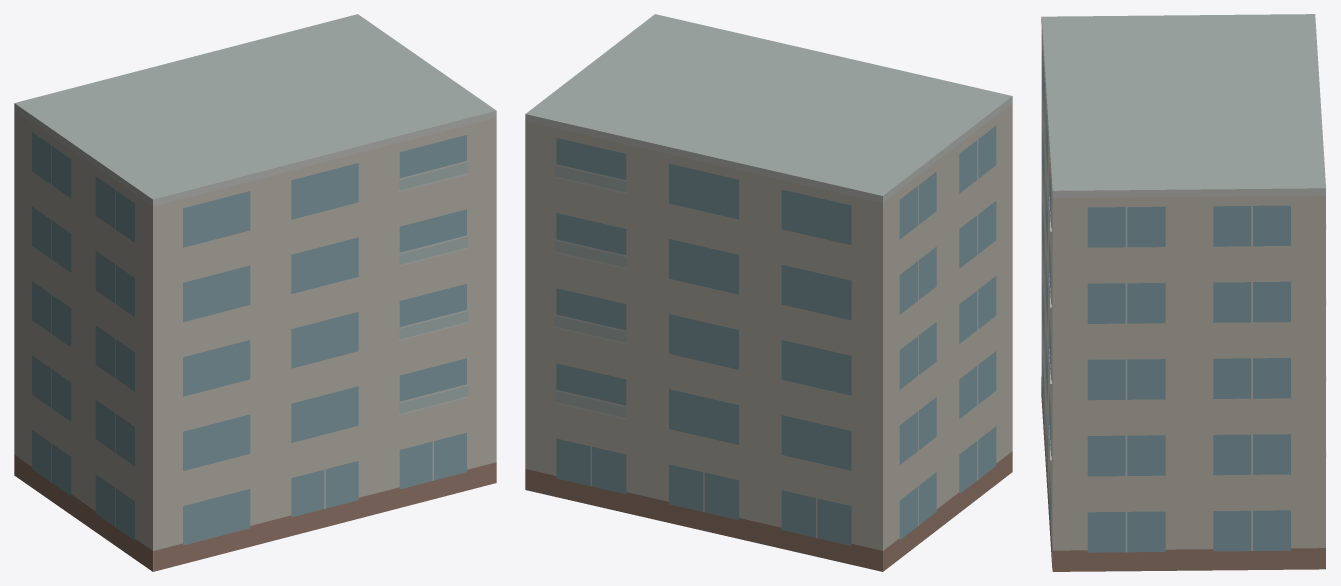
The model's file is survey-upis-33012334.glb.
3 views of the same model, side by side, from view 1: azimuth 30°, elevation 25°; view 2: azimuth 150°, elevation 25°; view 3: azimuth 270°, elevation 25° (orthographic). The views are drawn at different scales.
Parts seen in each view (by area): view 1: survey-upis-33012334.tmp; view 2: survey-upis-33012334.tmp; view 3: survey-upis-33012334.tmp.
Part boxes in pixels (x1,y1,x2,y2): survey-upis-33012334.tmp: [14, 14, 496, 571]; survey-upis-33012334.tmp: [525, 14, 1012, 571]; survey-upis-33012334.tmp: [1041, 14, 1326, 571].
Bounding box in the file's own units: 13.15 × 13.2 × 8.95.
